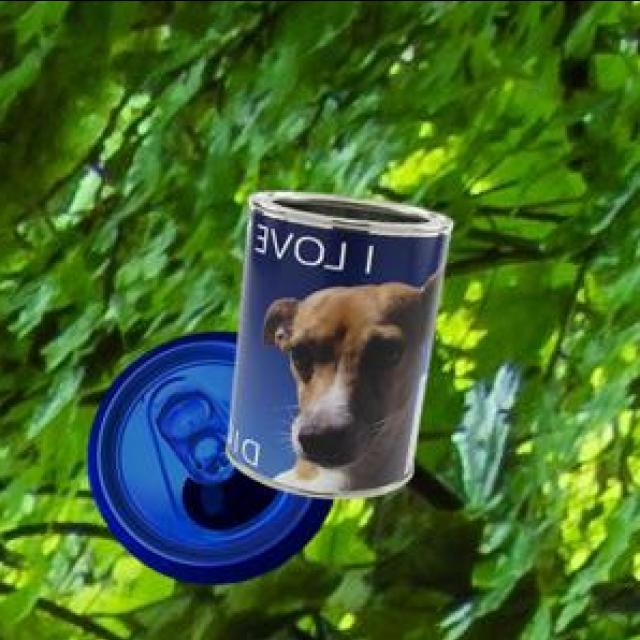logam: (229, 194, 456, 499), (91, 334, 338, 587)
